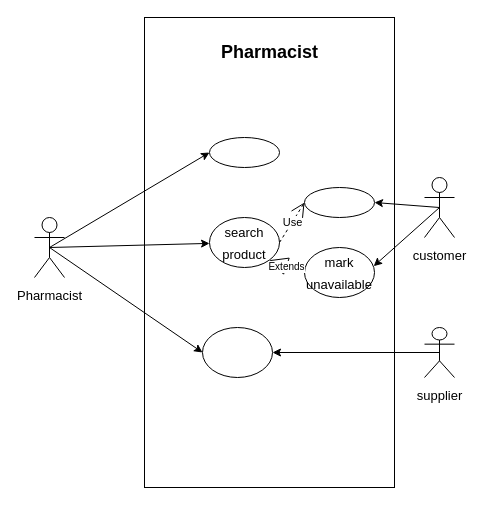
Image size: 483x505. Some labels were removed from this diagram. Here are the shapes that lost their labels. From the top down, the centre of each, then its label:
(244,152): login
(339,202): sell
(237,352): manage inventory
